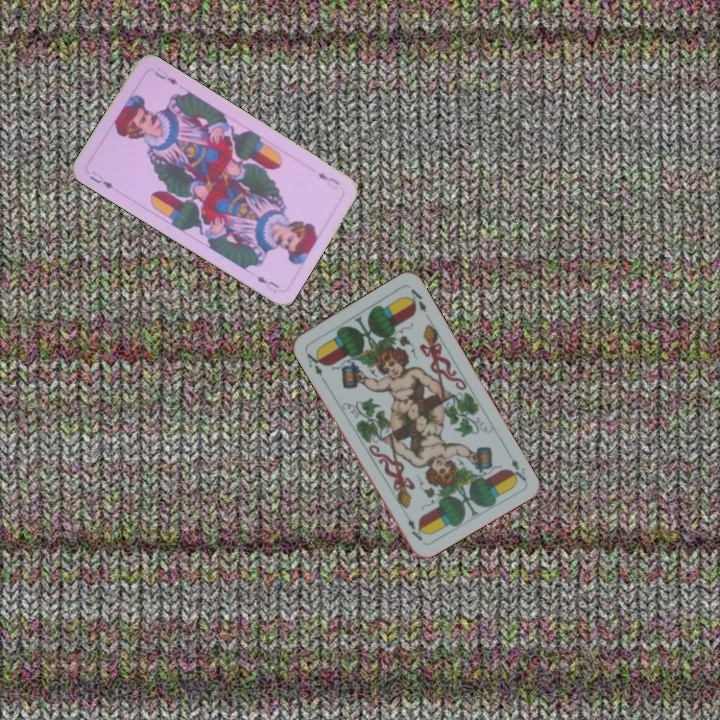EA: (301, 347, 327, 383), (505, 455, 528, 485)
EU: (86, 167, 116, 191), (313, 168, 343, 192)
